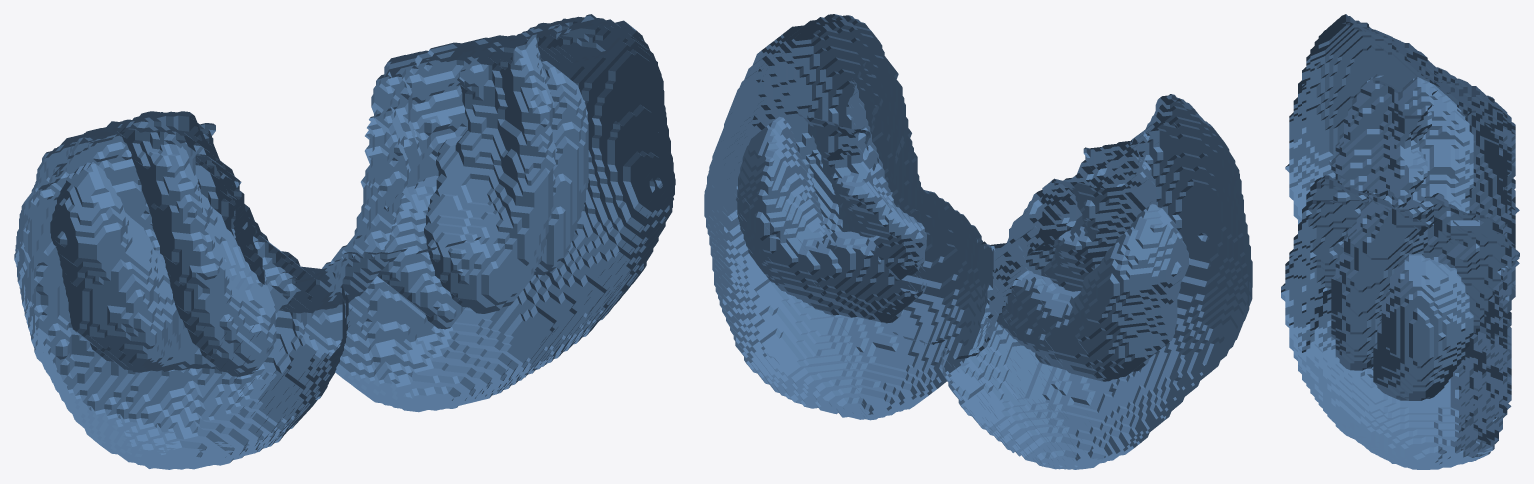
The model's file is region_0036_DIL__diffuse_nucleus_of_the_inferior_lobe_.glb.
The picture shows the model from 3 angles, left to right: view 1: azimuth 30°, elevation 25°; view 2: azimuth 150°, elevation 25°; view 3: azimuth 270°, elevation 25°; orthographic projection. The views are drawn at different scales.
Parts seen in each view (by area): view 1: world; view 2: world; view 3: world.
Boxes of the visible parts, <box> form: world: <box>14,14,675,469</box>; world: <box>704,14,1252,469</box>; world: <box>1281,14,1519,469</box>.
Size of the model in its own units: 1.02 by 0.664 by 0.456.
